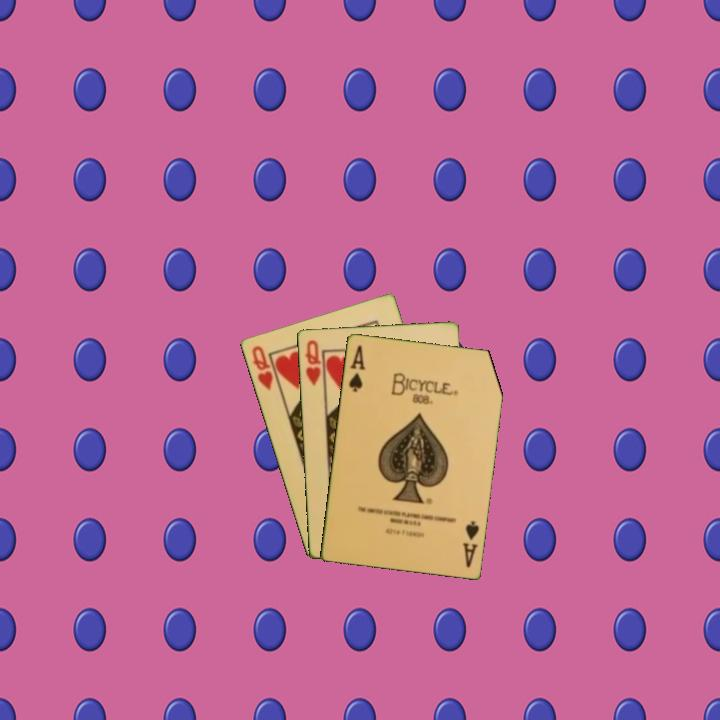As: (345, 341, 368, 394), (459, 517, 482, 570)
Qh: (248, 342, 276, 393), (301, 336, 324, 389)
